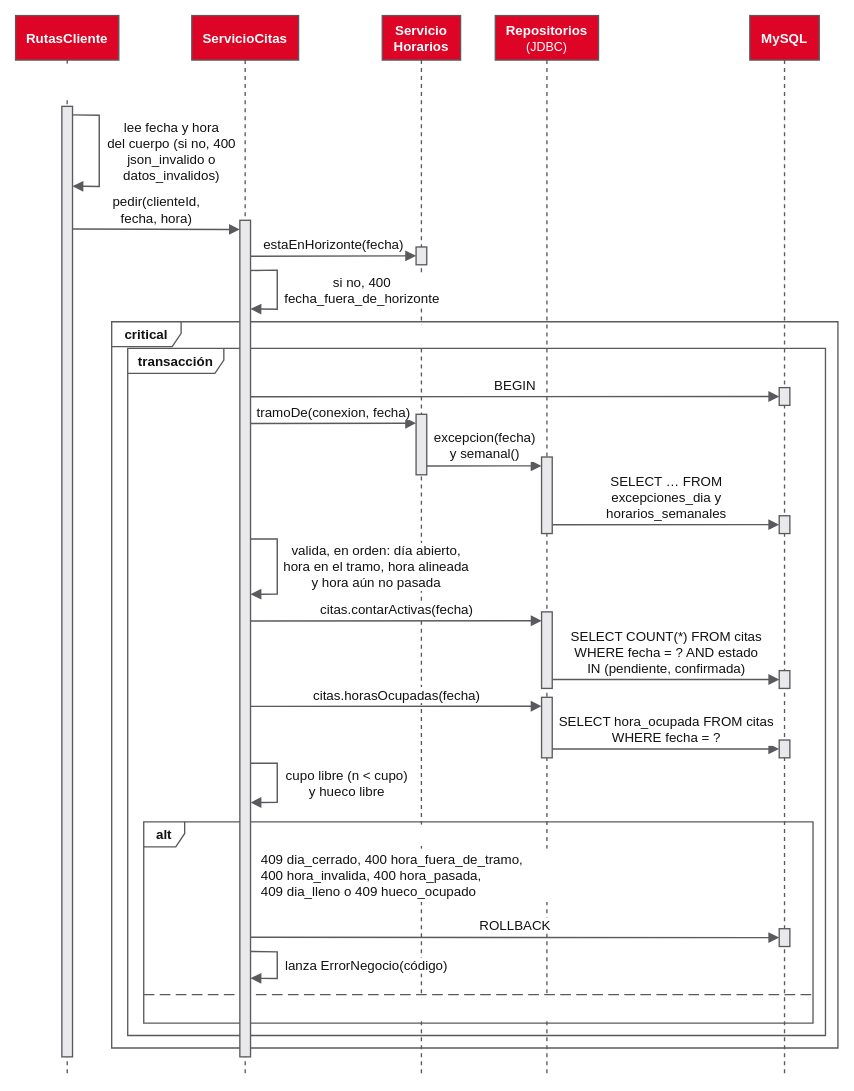
This 854x1091 diagram has some shape labels left out. The shapes that lost their labels are listed below. From the top down, each one's centre as x and y in pixels, then its label:
pixel 66 81: usuario ya autenticado
pixel 362 334: [synchronized (cerrojo(fecha))]
pixel 343 835: [falla una comprobación]
pixel 429 1007: [todas se cumplen: sigue la inserción y la respuesta]
